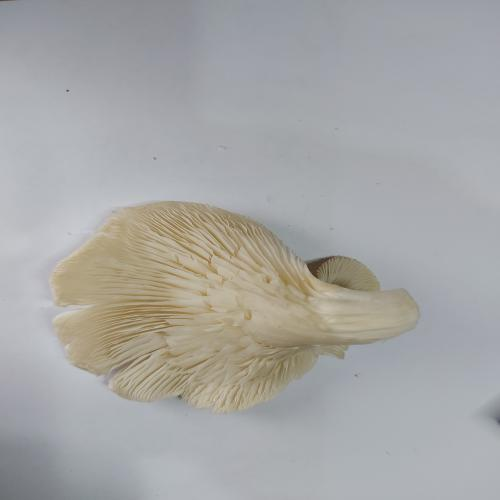Oyster Mushroom: (49, 199, 421, 414)
